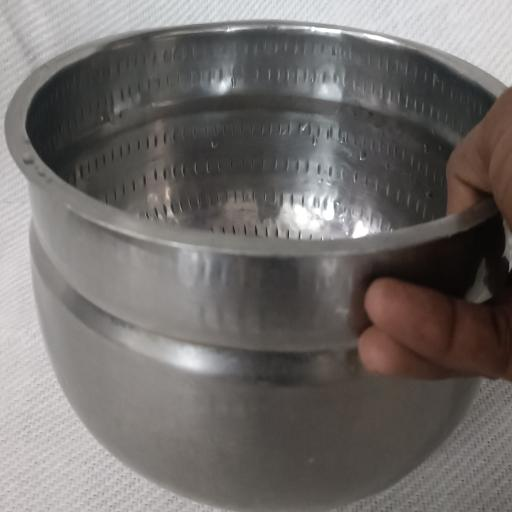vessel: (6, 22, 507, 510)
